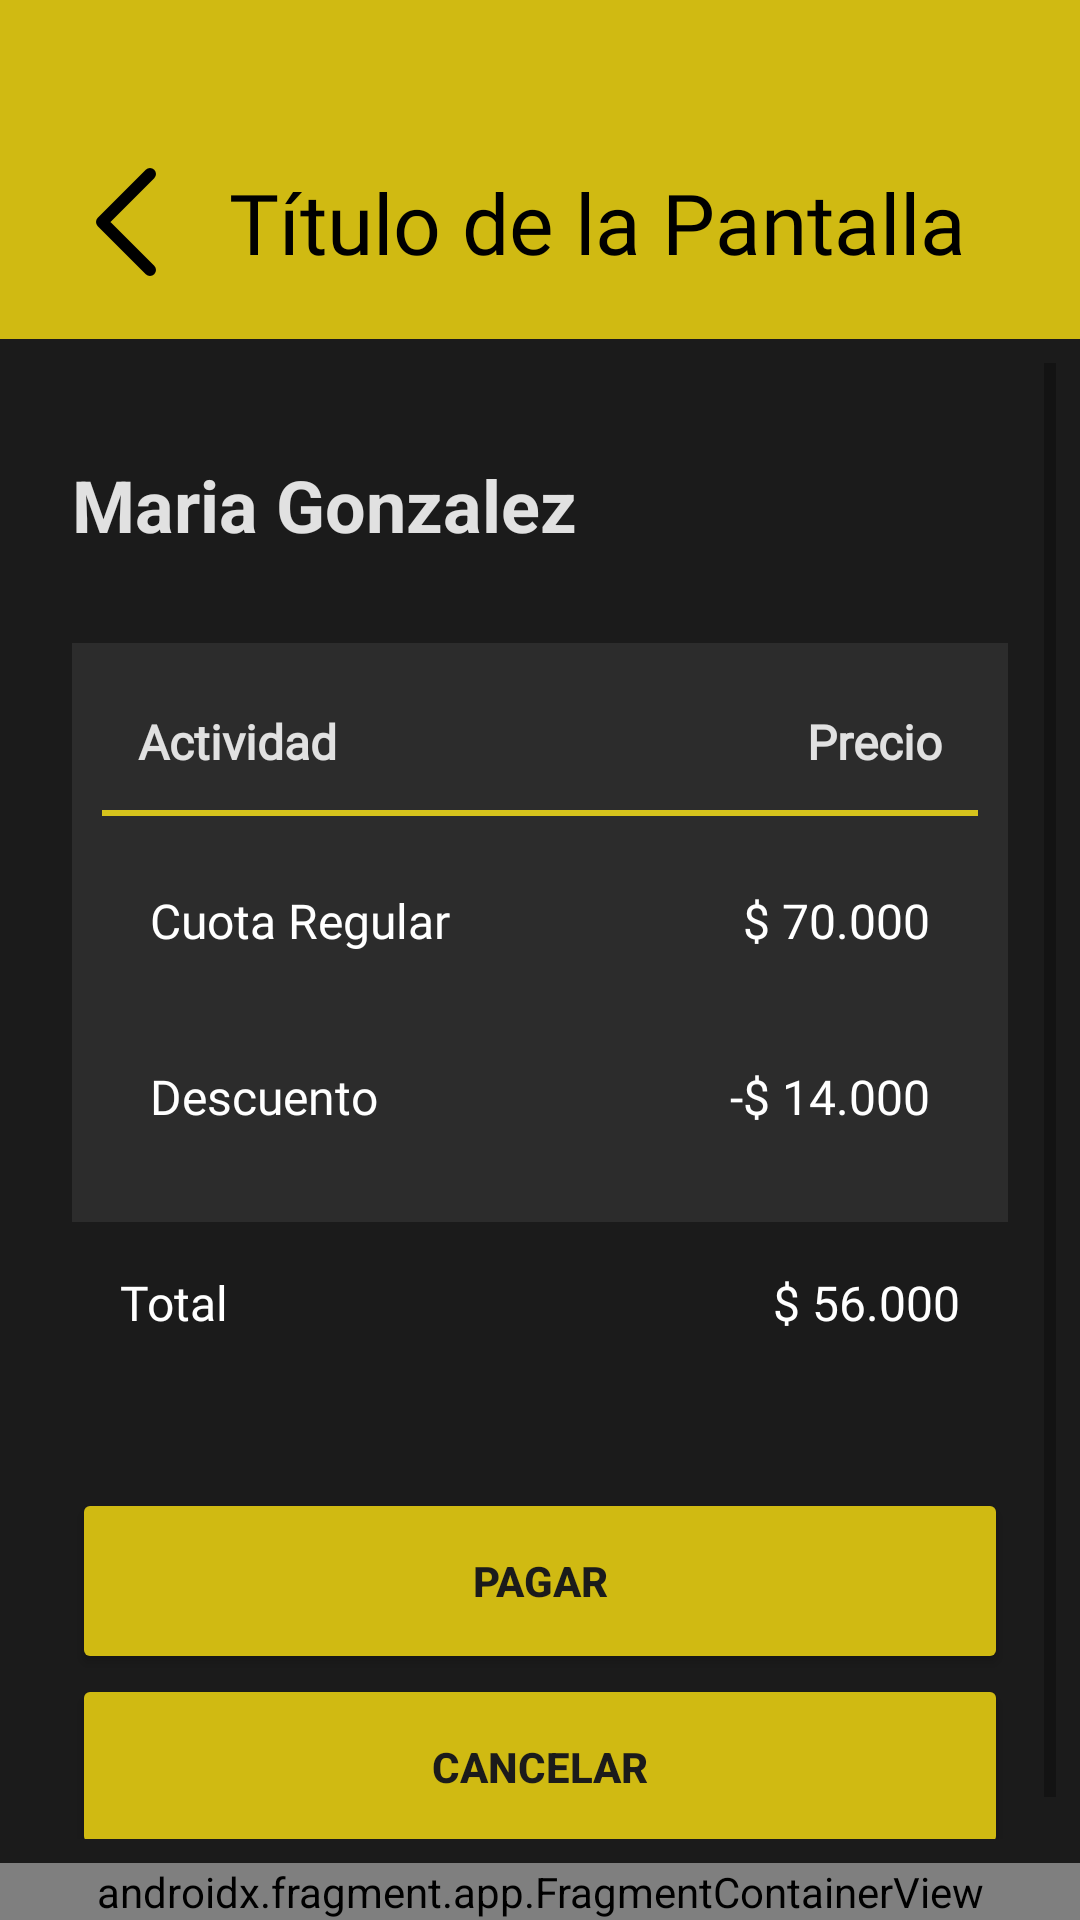

Screen size 1080px×1920px. Icon name, then its box in pixels as (x1, y1, x2, y2):
atras: (96, 168, 156, 276)
